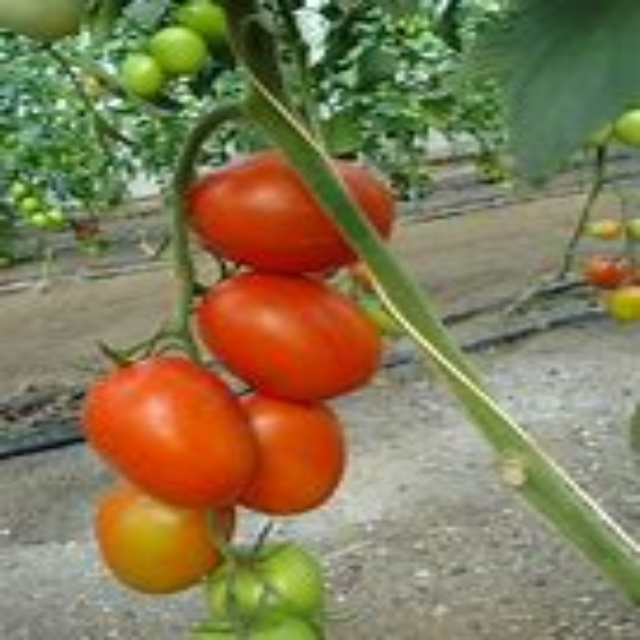tomato: (188, 142, 389, 278), (176, 281, 394, 399), (73, 371, 275, 497), (225, 385, 372, 509), (76, 484, 241, 593), (128, 6, 228, 96)
